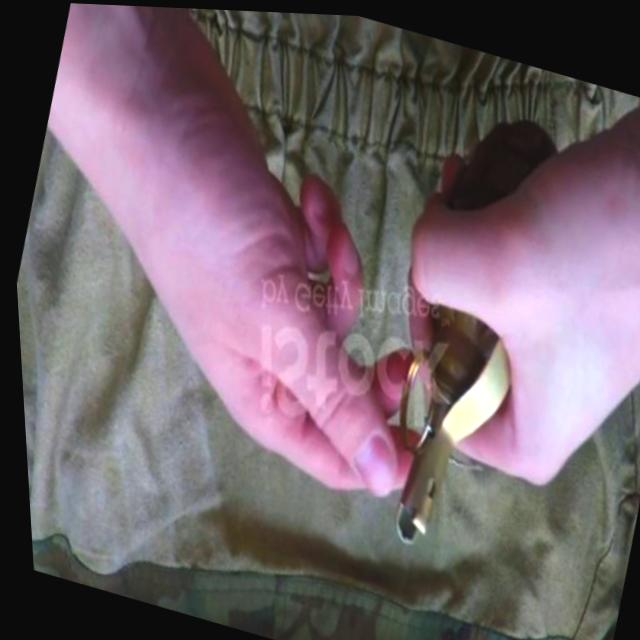grenade: (286, 74, 640, 598)
